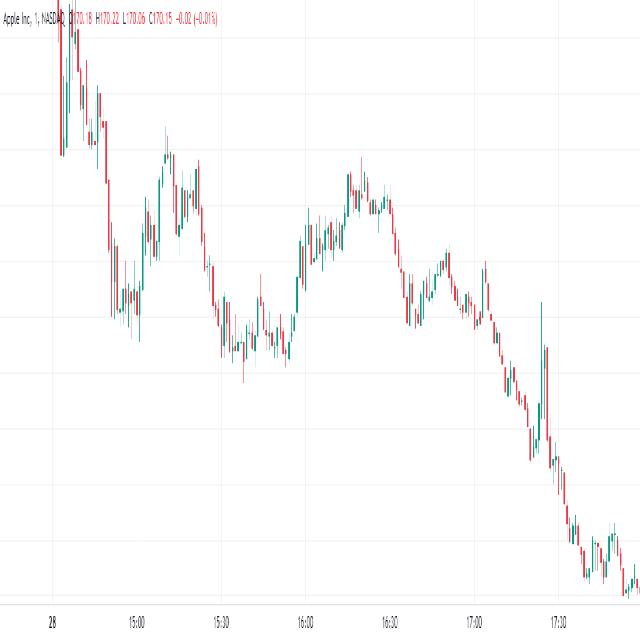rectangle: (102, 110, 415, 378)
